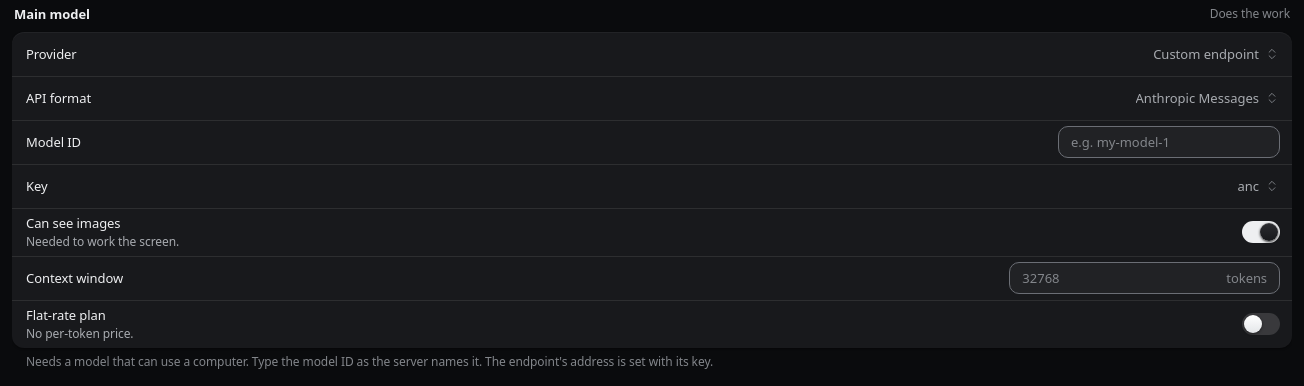
Test case: role card › lets a custom endpoint take a typed model ID, say whether it sees images, its context and a flat-rate plan
This screenshot has width=1304, height=386.
Type "glm-fixture" into the field labelled "Model ID" at point(1169, 142), box [1071,127,1267,157]
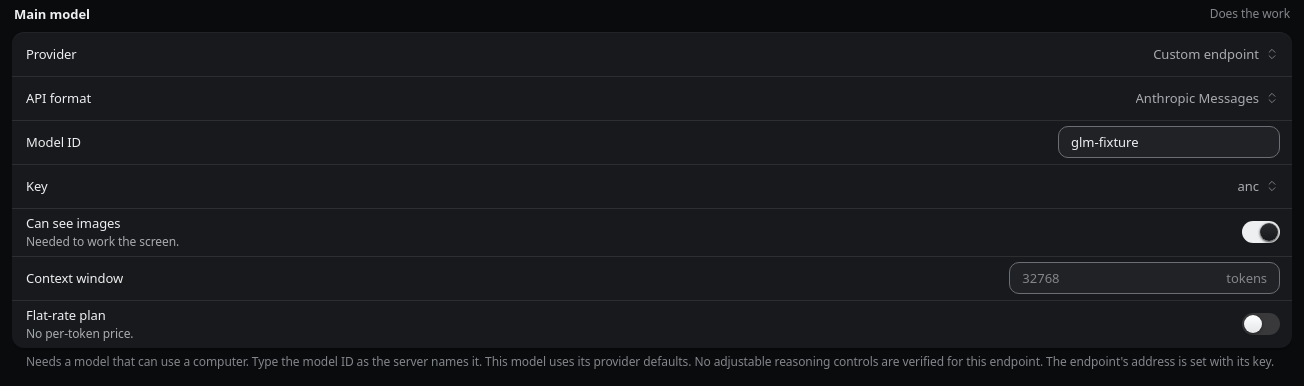
Click the switch labelled "Can see images" at point(73, 223), box [12,208,1292,256]
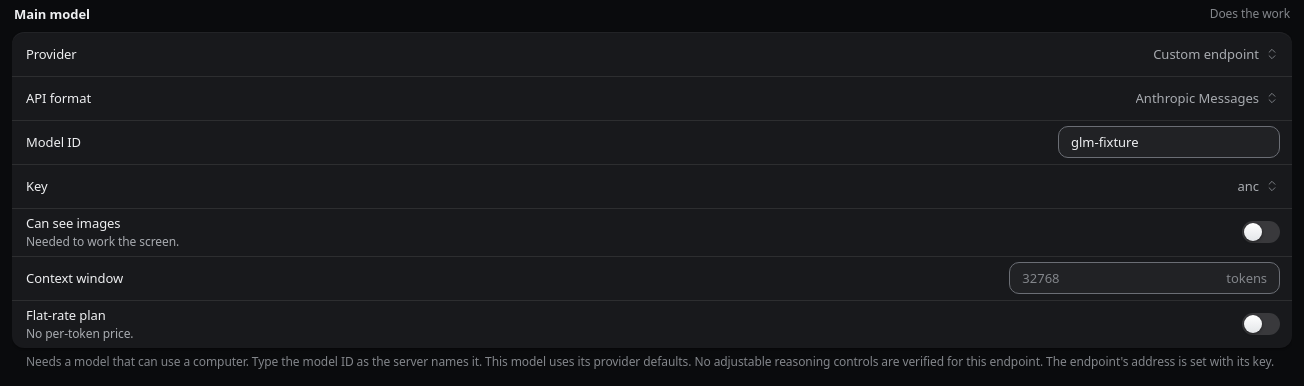
Type "64k000" into the field labelled "Context window" at point(1120, 278), box [1022,263,1218,293]
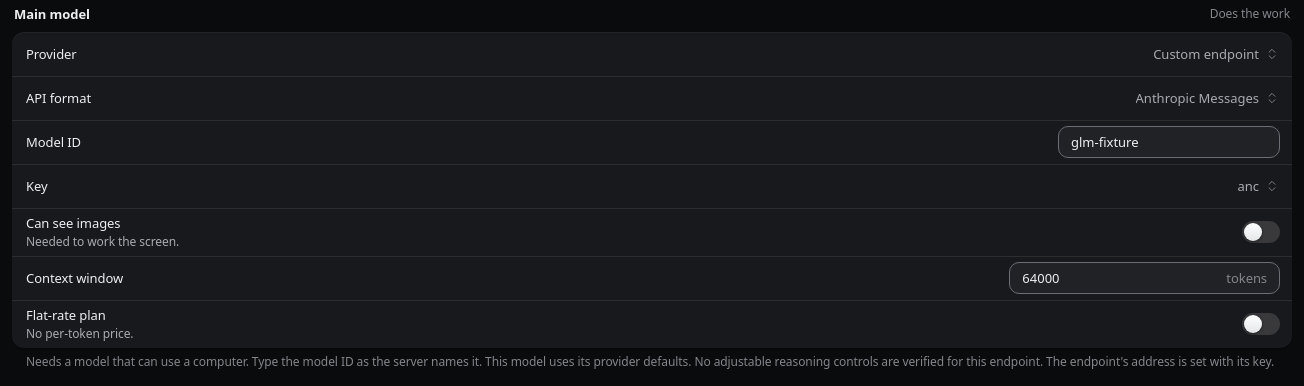
Click the switch labelled "Flat-rate plan" at point(66, 315), box [12,300,1292,348]
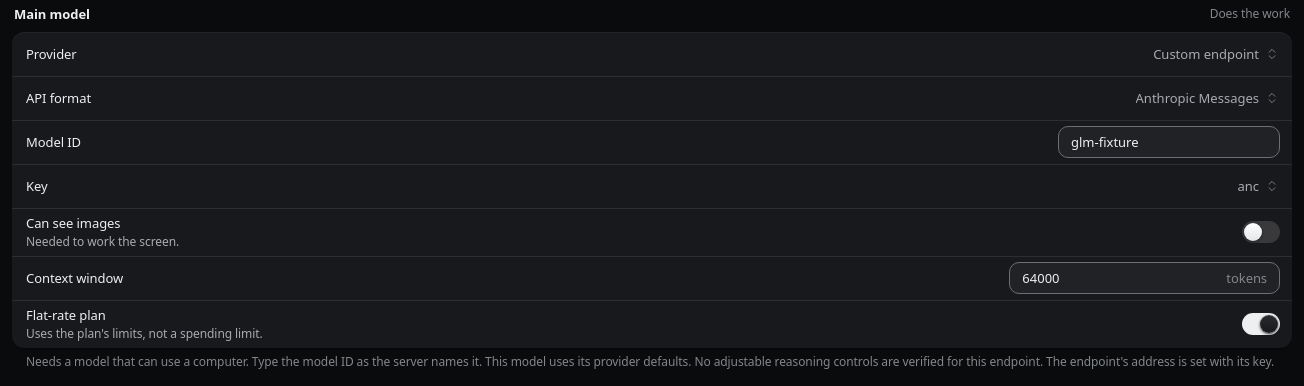
Result: the text "Uses the plan's limits, not a spending limit." is shown at [26,325,263,342]
